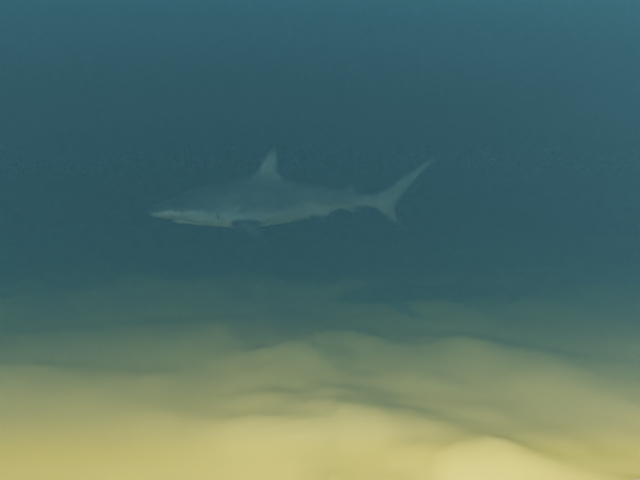Carribean Shark.001: (148, 146, 438, 242)
